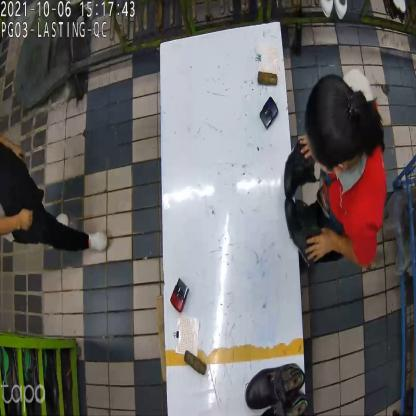shoes: (283, 137, 320, 269), (244, 359, 313, 415)
stamp: (171, 280, 191, 314), (258, 96, 278, 129)
